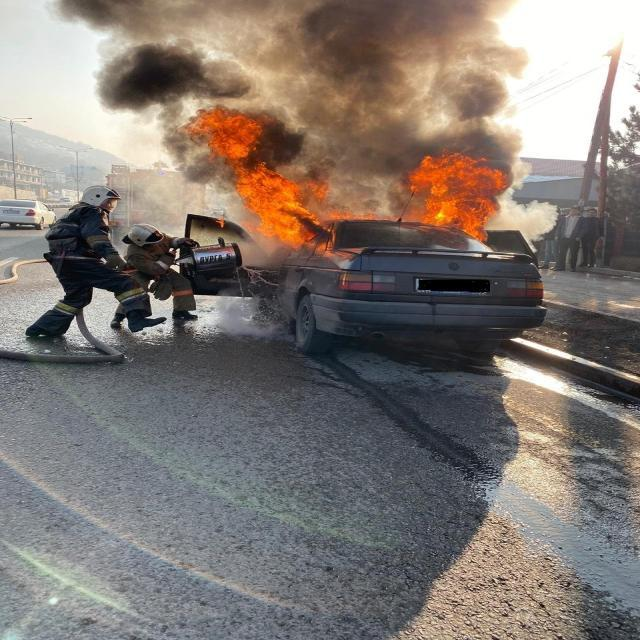Fire: (186, 108, 342, 248), (410, 153, 510, 240)
Smoke: (55, 0, 554, 239), (216, 290, 282, 342)
